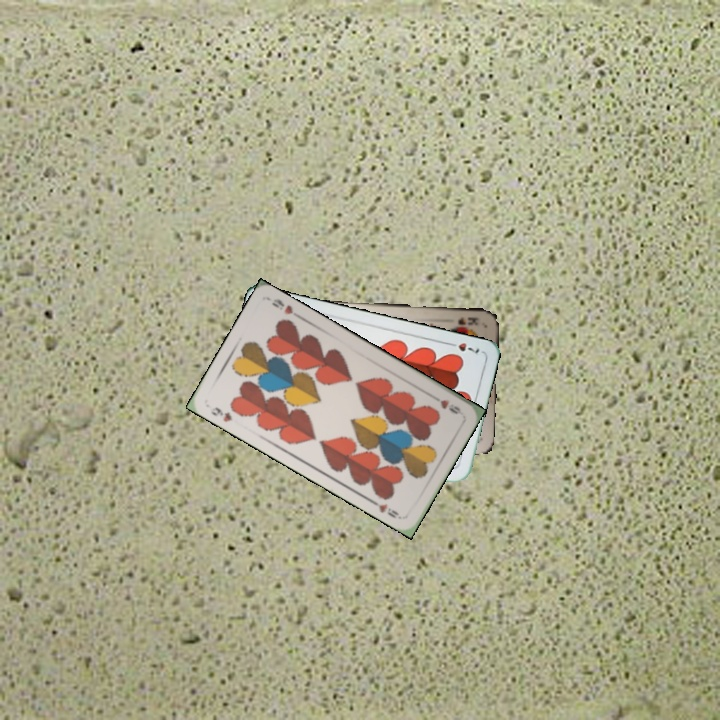H7: (443, 338, 482, 356)
H9: (427, 391, 465, 417), (205, 403, 235, 425)
SK: (454, 313, 481, 328)
